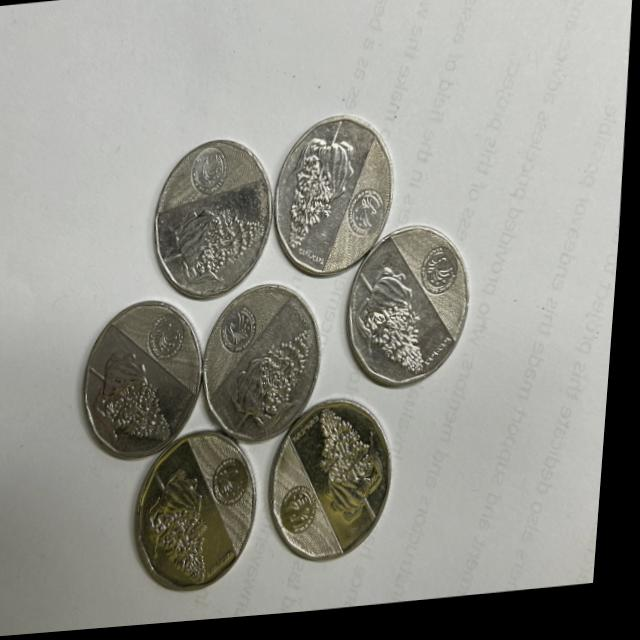10_New_Back: (134, 441, 235, 603), (93, 325, 188, 454), (360, 252, 448, 384), (307, 404, 396, 532), (287, 126, 351, 280), (229, 337, 323, 432), (177, 195, 271, 283)
